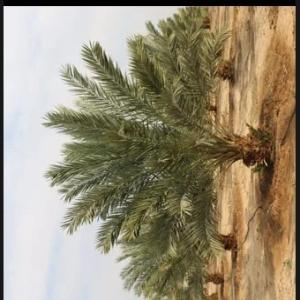palm tree: (41, 5, 274, 299)
